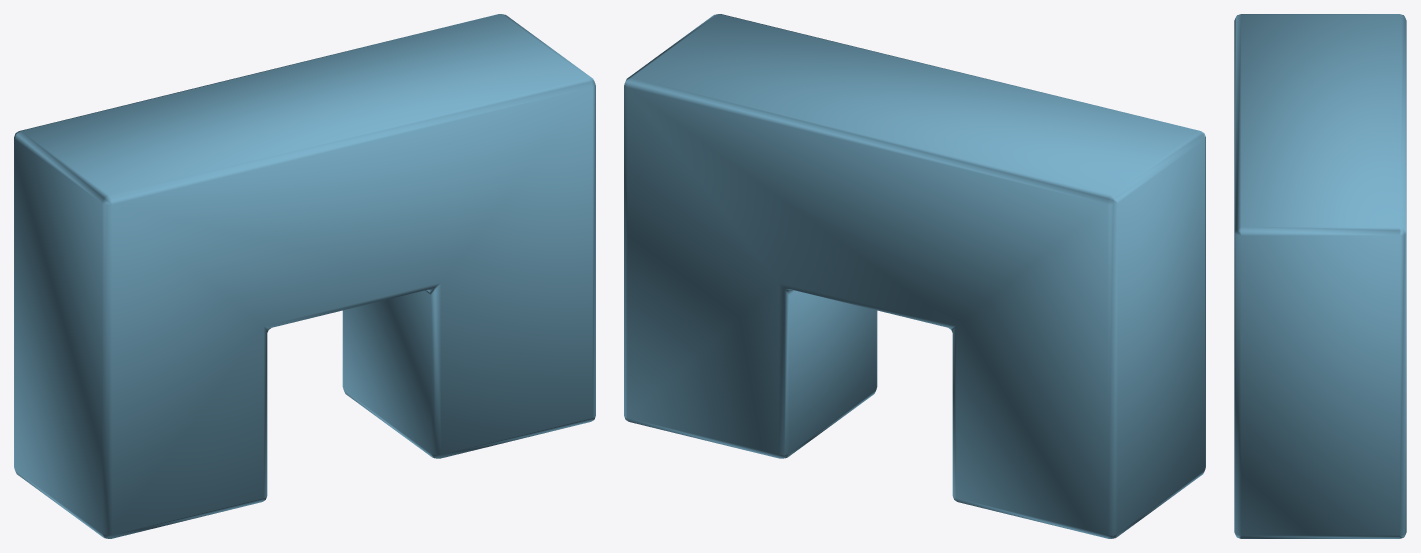
File: S05_ARCH.fbx
The picture shows the model from 3 angles, left to right: view 1: azimuth 30°, elevation 25°; view 2: azimuth 150°, elevation 25°; view 3: azimuth 270°, elevation 25°; orthographic projection. The views are drawn at different scales.
Visible parts, largest first — view 1: S05_ARCH; view 2: S05_ARCH; view 3: S05_ARCH.
Boxes of the visible parts, x1,y1,x2,y2 form: S05_ARCH: (14,14,595,538); S05_ARCH: (624,14,1205,538); S05_ARCH: (1234,14,1406,538).
Bounding box in the file's own units: 300 × 200 × 100.
